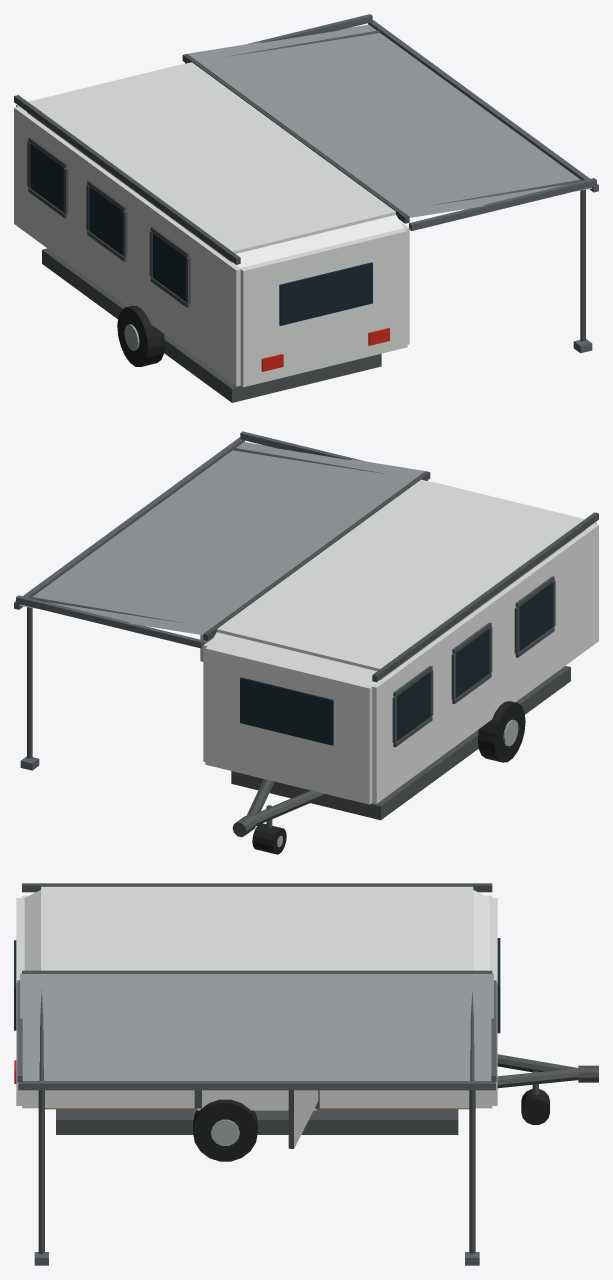
Rendered from HomebaseEuropeanCaravan_LOD00.gltf.
The picture shows the model from 3 angles, top to bottom: view 1: azimuth 30°, elevation 25°; view 2: azimuth 150°, elevation 25°; view 3: azimuth 270°, elevation 25°; orthographic projection. The views are drawn at different scales.
Parts seen in each view (by area): view 1: HomebaseEuropeanCaravan_node; view 2: HomebaseEuropeanCaravan_node; view 3: HomebaseEuropeanCaravan_node.
Part boxes in pixels (x1,y1,x2,y2): HomebaseEuropeanCaravan_node: (14,14,598,402); HomebaseEuropeanCaravan_node: (14,431,598,854); HomebaseEuropeanCaravan_node: (14,883,598,1265).
Size of the model in its own units: 5.01 by 2.38 by 6.47.
